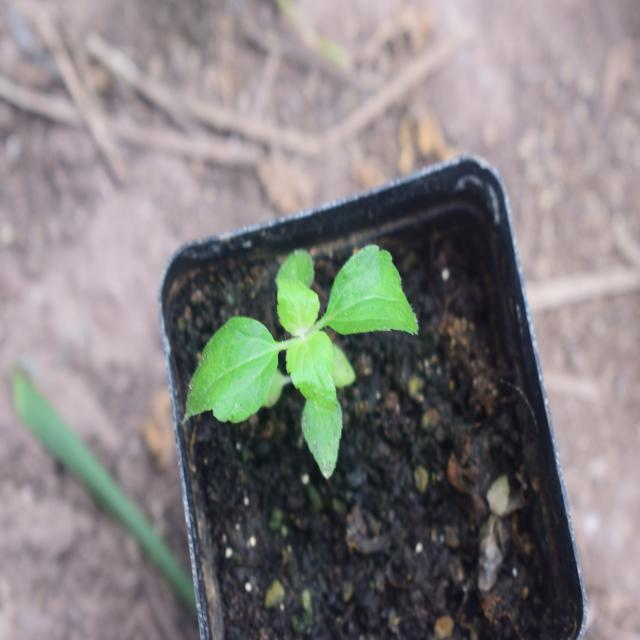billygoat_weed: (184, 241, 418, 474)
